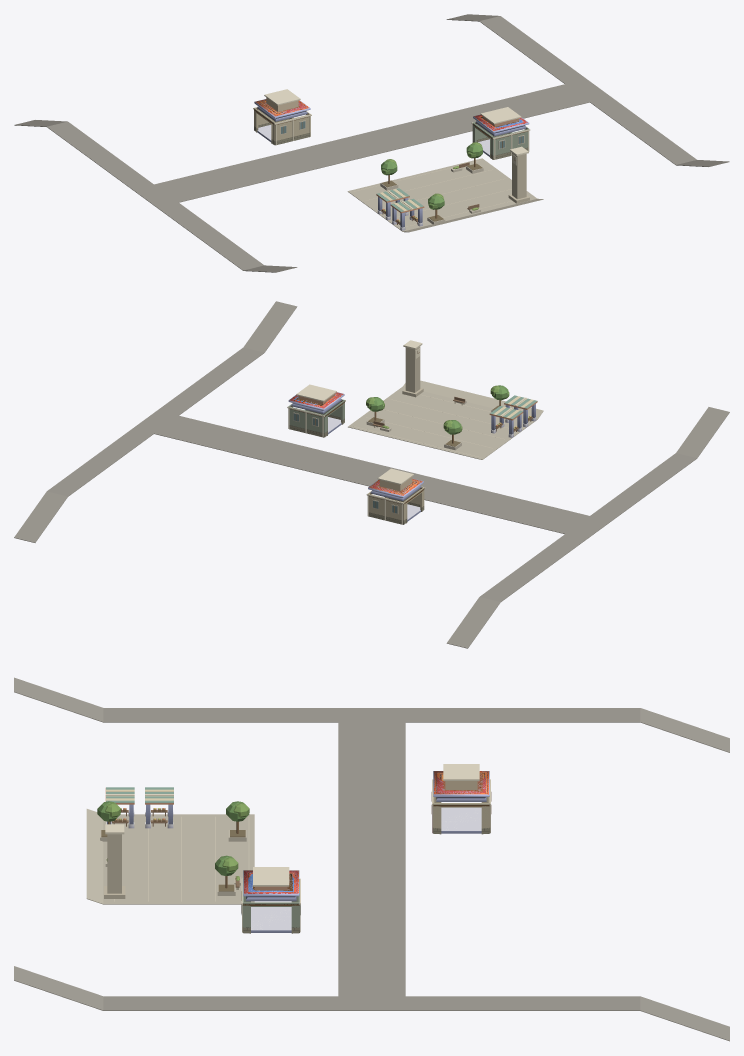
The model's file is town-1-1.glb.
The picture shows the model from 3 angles, top to bottom: view 1: azimuth 30°, elevation 25°; view 2: azimuth 150°, elevation 25°; view 3: azimuth 270°, elevation 25°; orthographic projection. The views are drawn at different scales.
Parts seen in each view (by area): view 1: town-1-1; view 2: town-1-1; view 3: town-1-1.
Part boxes in pixels (box(x1,y1,x2,y2)): town-1-1: box(14, 14, 729, 272); town-1-1: box(14, 301, 729, 648); town-1-1: box(14, 677, 729, 1041).
Bounding box in the file's own units: 128 × 19.22 × 128.
Materials: 48 (24 with a texture image).
